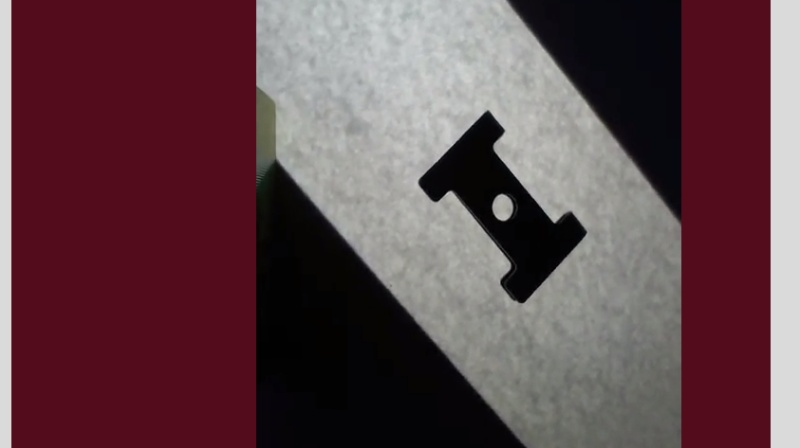O002: (417, 108, 589, 309)
